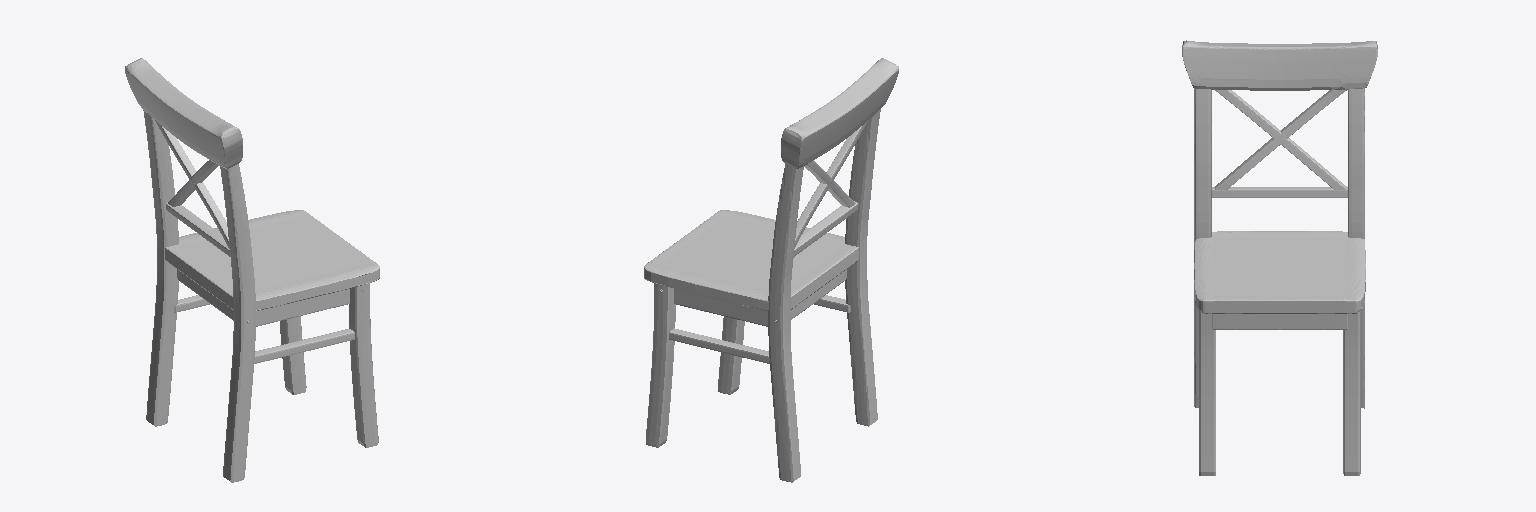
The model's file is woodenchair.obj.
3 views of the same model, side by side, from view 1: azimuth 30°, elevation 25°; view 2: azimuth 150°, elevation 25°; view 3: azimuth 270°, elevation 25° (orthographic).
Visible parts, largest first — view 1: Chair_01_Cube.005; view 2: Chair_01_Cube.005; view 3: Chair_01_Cube.005.
Part boxes in pixels (x1,y1,x2,y2): Chair_01_Cube.005: (125, 58, 379, 482); Chair_01_Cube.005: (644, 58, 898, 482); Chair_01_Cube.005: (1182, 40, 1377, 475).
Size of the model in its own units: 2.92 by 5.81 by 2.86.